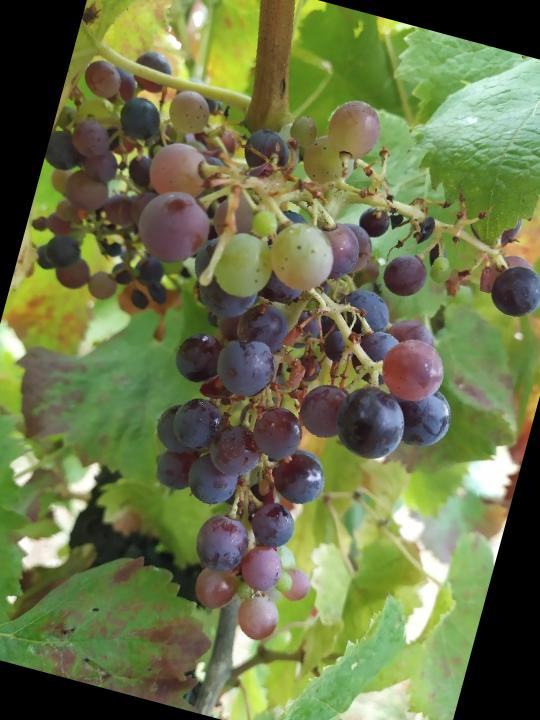grape: (0, 22, 540, 694)
